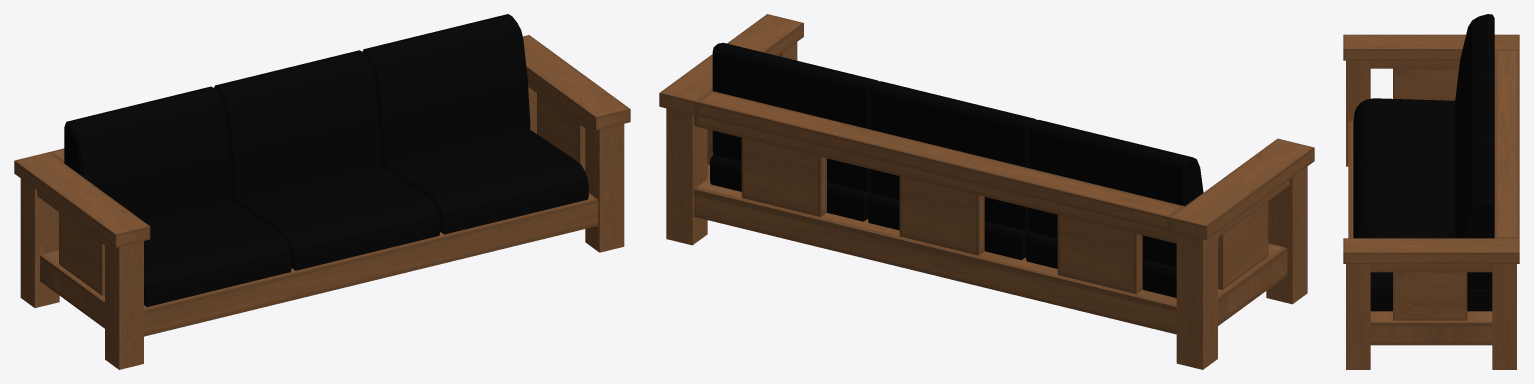
The model's file is Sofa(3).fbx.
The picture shows the model from 3 angles, left to right: view 1: azimuth 30°, elevation 25°; view 2: azimuth 150°, elevation 25°; view 3: azimuth 270°, elevation 25°; orthographic projection. The views are drawn at different scales.
Visible parts, largest first — view 1: Sofa(3), Sofa(3).002, Sofa(3).003, Sofa(3).001; view 2: Sofa(3), Sofa(3).004, Sofa(3).002, Sofa(3).001, Sofa(3).003; view 3: Sofa(3), Sofa(3).003, Sofa(3).001, Sofa(3).004, Sofa(3).002.
Part boxes in pixels (left/top/right/bottom): Sofa(3): left=64, top=14, right=588, bottom=306; Sofa(3).002: left=40, top=193, right=598, bottom=336; Sofa(3).003: left=14, top=35, right=630, bottom=295; Sofa(3).001: left=20, top=87, right=624, bottom=369; Sofa(3): left=710, top=42, right=1203, bottom=297; Sofa(3).004: left=694, top=91, right=1184, bottom=294; Sofa(3).002: left=694, top=164, right=1287, bottom=334; Sofa(3).001: left=666, top=42, right=1307, bottom=369; Sofa(3).003: left=659, top=14, right=1314, bottom=289; Sofa(3): left=1353, top=14, right=1494, bottom=311; Sofa(3).003: left=1343, top=34, right=1519, bottom=320; Sofa(3).001: left=1346, top=60, right=1516, bottom=369; Sofa(3).004: left=1494, top=49, right=1519, bottom=238; Sofa(3).002: left=1348, top=121, right=1492, bottom=345.
Bounding box in the file's own units: 208 × 69.16 × 71.
5 materials, 5 textured.
